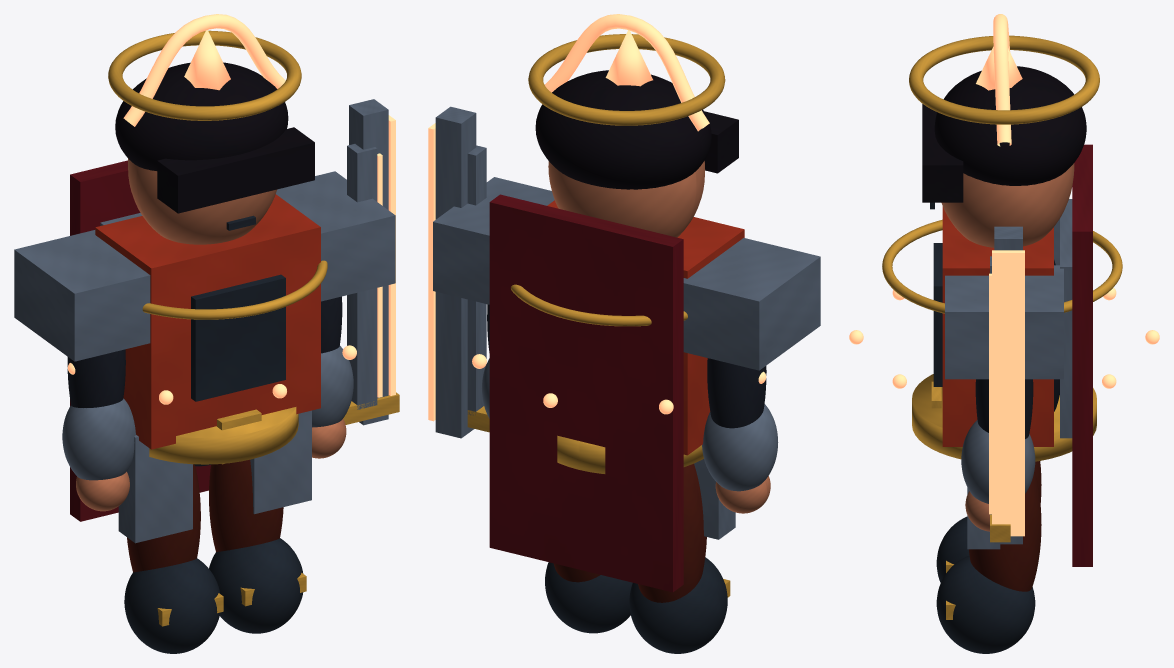
The model's file is Transcendence.glb.
The picture shows the model from 3 angles, left to right: view 1: azimuth 30°, elevation 25°; view 2: azimuth 150°, elevation 25°; view 3: azimuth 270°, elevation 25°; orthographic projection. The views are drawn at different scales.
Parts seen in each view (by area): view 1: ChestPlate, SegmentedPauldron, Hair, ChestInset, SegmentedPauldron.001, HairFringe, Boot, Boot.001, Tasset, CrownRing, Head, SwordBlade (+19 smaller); view 2: Cape, SegmentedPauldron, Hair, Greatsword, SegmentedPauldron.001, Head, CrownRing, Boot, ChestPlate, Gauntlet, Boot.001, TranscendentCrest (+10 smaller); view 3: Hair, GreatswordEdge, SegmentedPauldron.001, Cape, ChestPlate, Boot.001, Head, CrownRing, Leg.001, WaistGuard, HairFringe, ShoulderCrest (+11 smaller).
Part boxes in pixels (box(x1,y1,x2,y2)): ChestPlate: box(95, 194, 320, 449); SegmentedPauldron: box(14, 230, 150, 361); Hair: box(115, 62, 288, 170); ChestInset: box(191, 274, 285, 401); SegmentedPauldron.001: box(276, 171, 395, 301); HairFringe: box(157, 127, 314, 213); Boot: box(124, 558, 220, 653); Boot.001: box(209, 538, 303, 633); Tasset: box(118, 435, 192, 543); CrownRing: box(108, 30, 301, 120); Head: box(128, 158, 277, 244); SwordBlade: box(347, 144, 377, 409); Cape: box(489, 194, 683, 592); SegmentedPauldron: box(683, 238, 820, 370); Hair: box(535, 70, 711, 189); Greatsword: box(435, 106, 476, 438); SegmentedPauldron.001: box(433, 177, 554, 304); Head: box(548, 161, 705, 237); CrownRing: box(528, 34, 725, 125); Boot: box(629, 557, 727, 653); ChestPlate: box(547, 200, 744, 455); Gauntlet: box(702, 404, 778, 491); Boot.001: box(545, 562, 632, 633); TranscendentCrest: box(545, 14, 709, 131); Hair: box(934, 66, 1086, 185); GreatswordEdge: box(992, 250, 1024, 536); SegmentedPauldron.001: box(945, 265, 1063, 379); Cape: box(1072, 144, 1092, 566); ChestPlate: box(942, 206, 1053, 446); Boot.001: box(936, 555, 1035, 653); Head: box(941, 163, 1074, 247); CrownRing: box(909, 35, 1099, 124); Leg.001: box(969, 470, 1041, 591); WaistGuard: box(912, 374, 1096, 461); HairFringe: box(922, 104, 963, 202); ShoulderCrest: box(882, 219, 1122, 313).
Bounding box in the file's own units: 1.93 × 3.27 × 1.51.
Materials: 12 (9 with a texture image).
